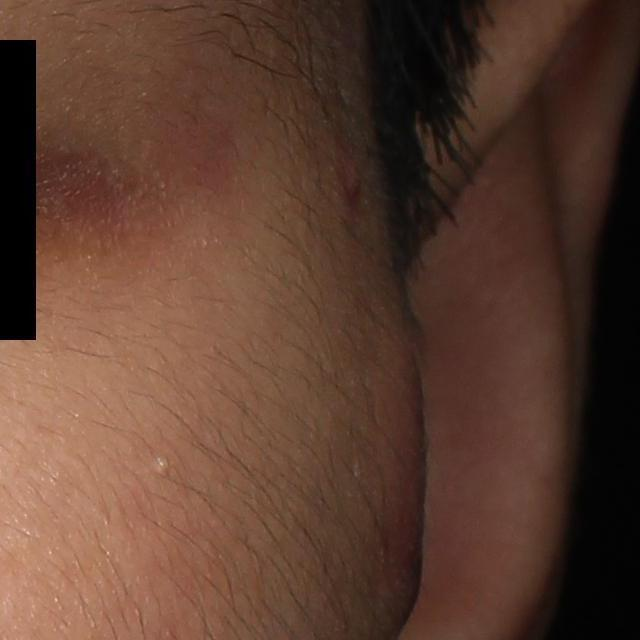comedo: (155, 454, 174, 476)
